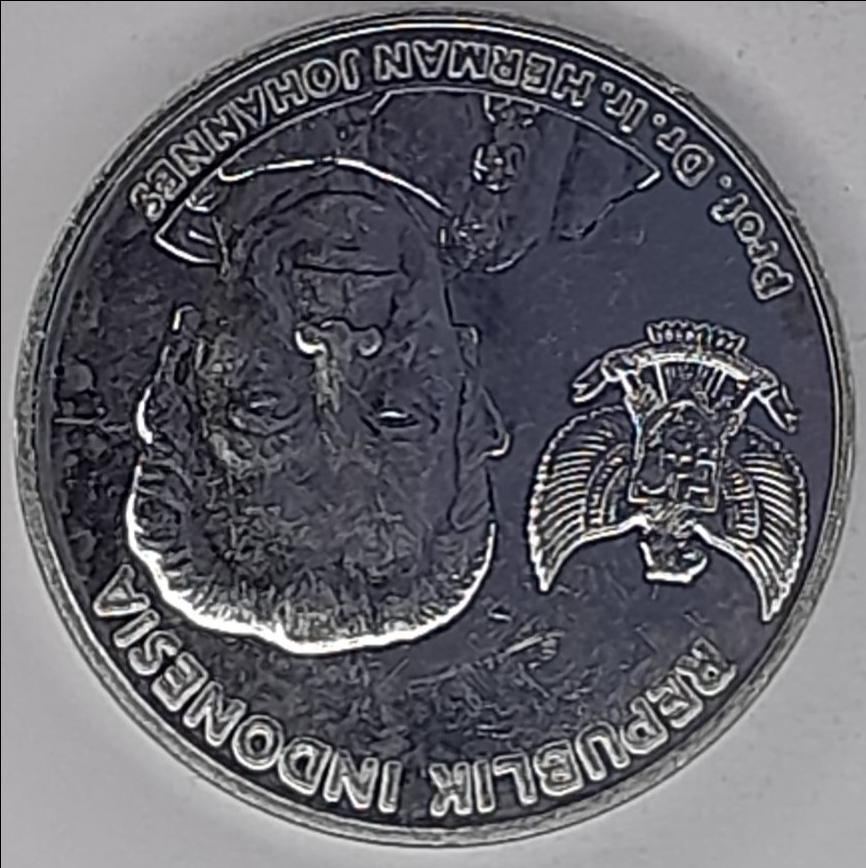coin_100_e2016: (7, 0, 860, 849)
